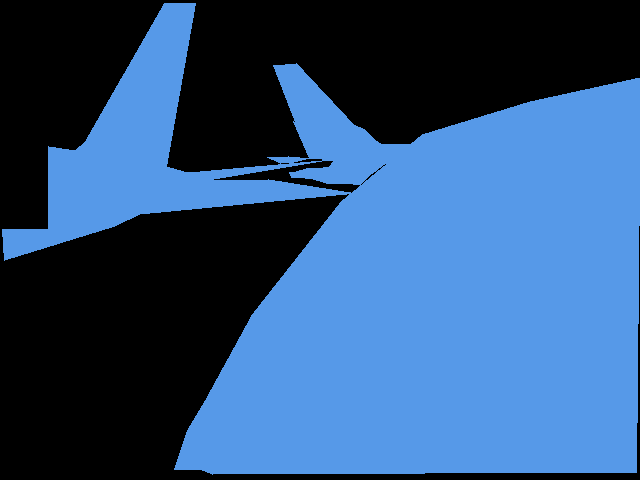Airplane: (174, 77, 640, 474), (2, 3, 357, 260), (267, 63, 413, 185)
